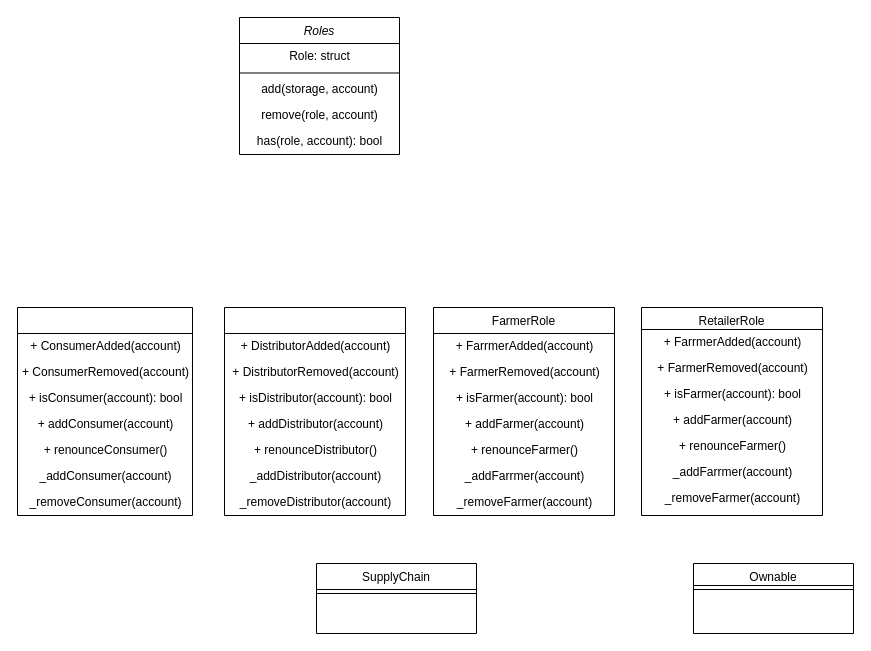
The diagram is 871 pixels wide and 651 high, and some of its shapes have lost their labels. The box of each missing label's shape, as (x1, y1, x2, y2) in pixels:
ConsumerRole: (16, 306, 192, 516)
DistributorRole: (224, 306, 406, 516)
